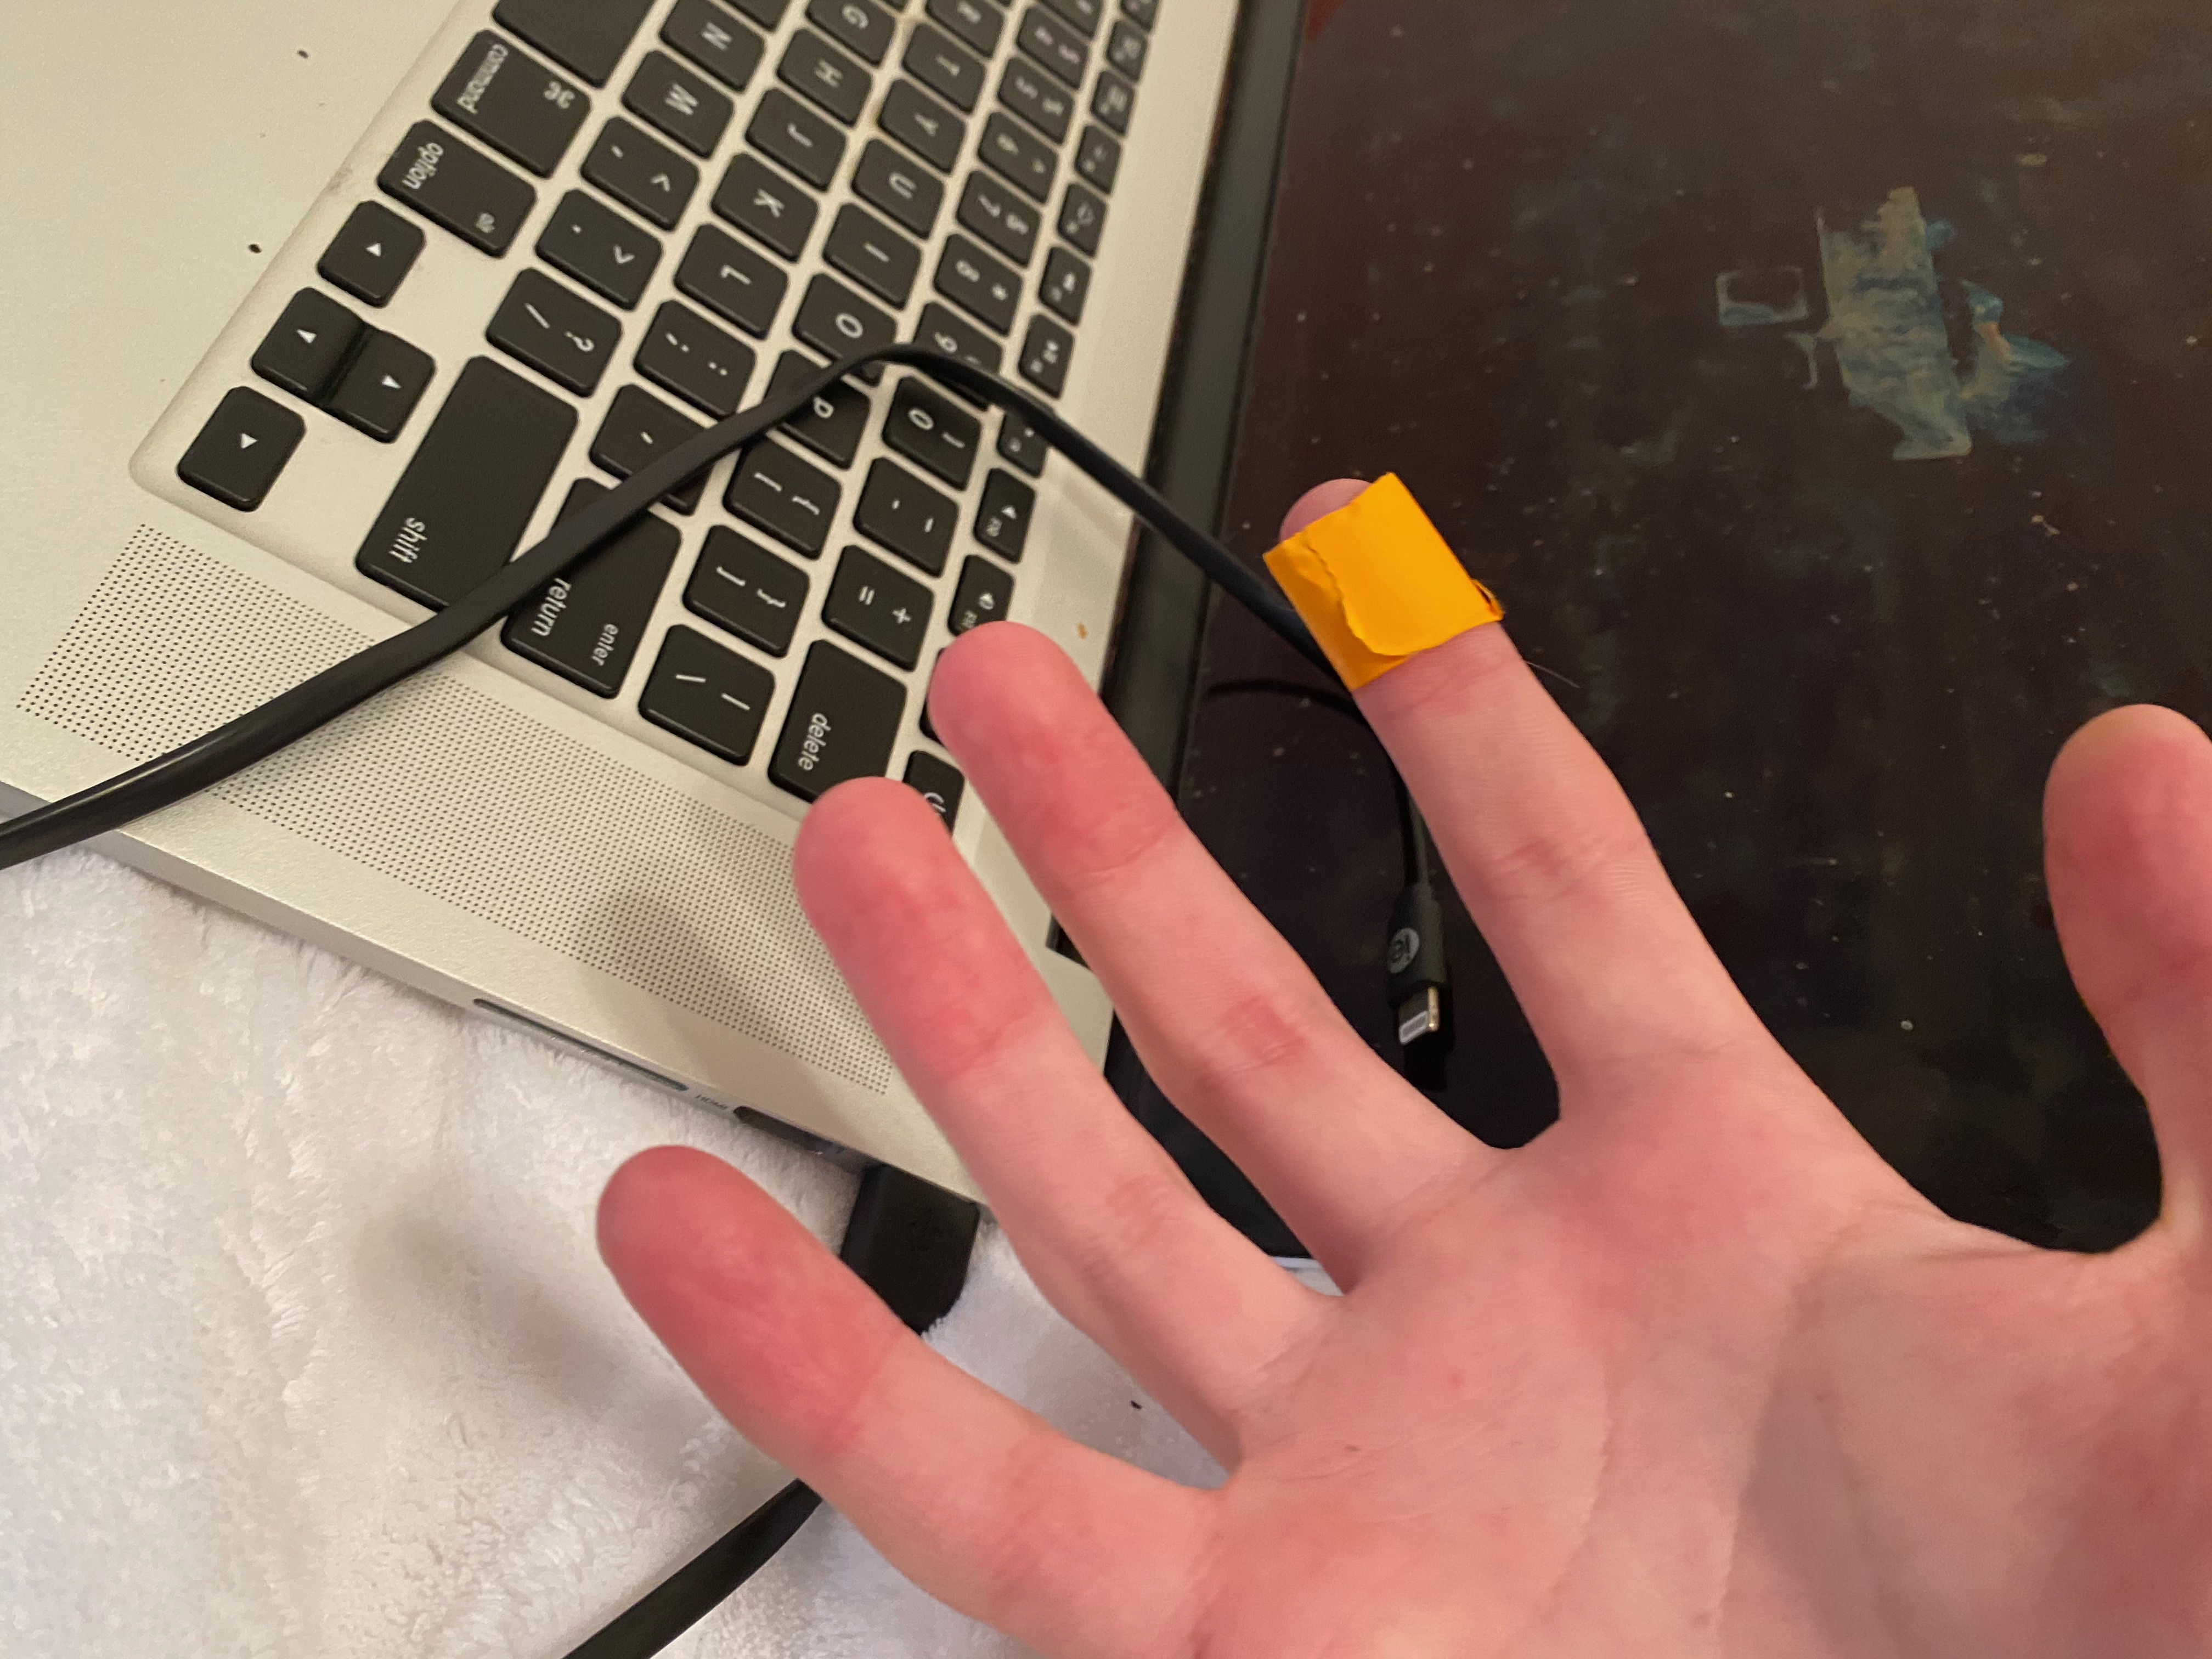fingertip: (1275, 458, 1512, 713)
